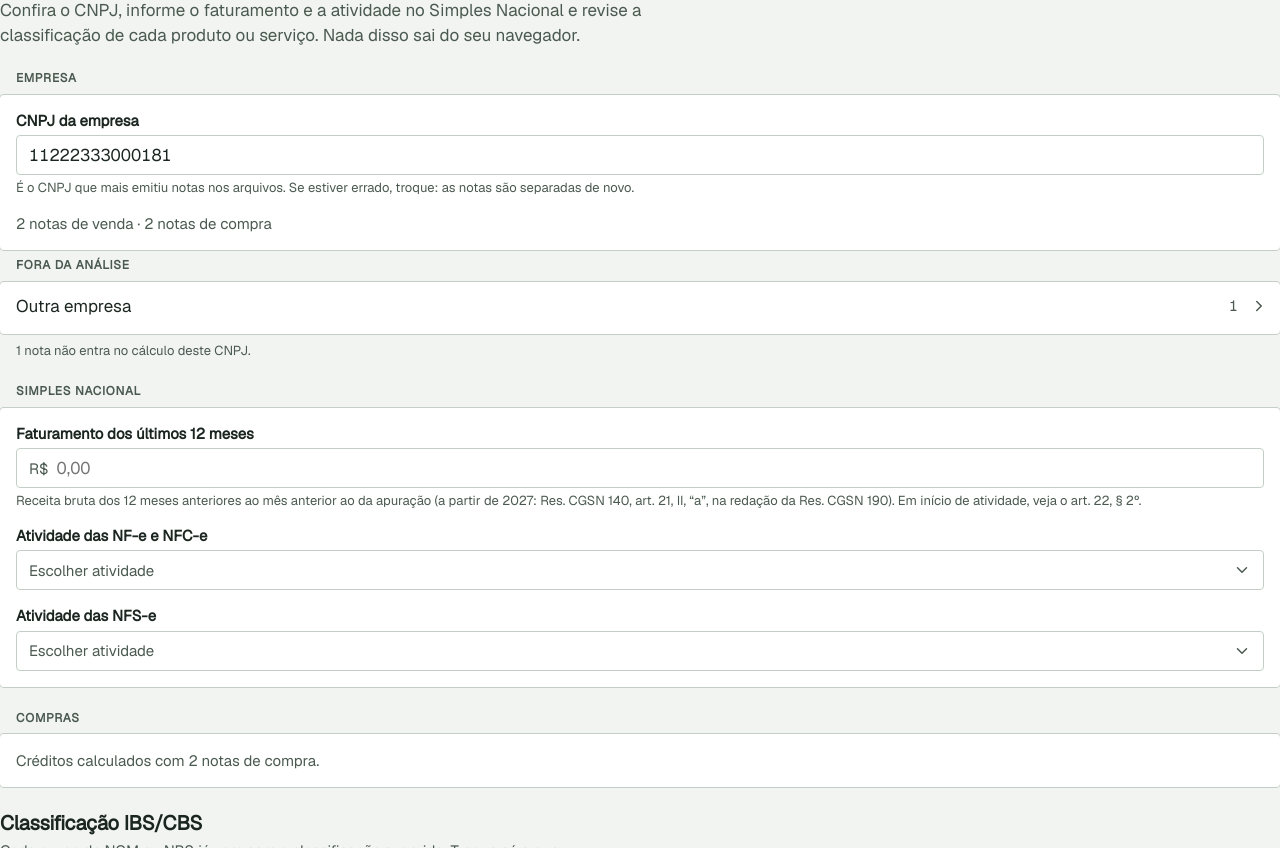
Test case: Confirmar — atividade do Simples › Calcular fica desabilitado enquanto algum tipo de nota presente não tem atividade (garante que o simular nunca exclui item por falta de atividade)
Click the button named "Atividade das NF-e e NFC-e". click: (92, 570)
box: [16,550,1264,590]
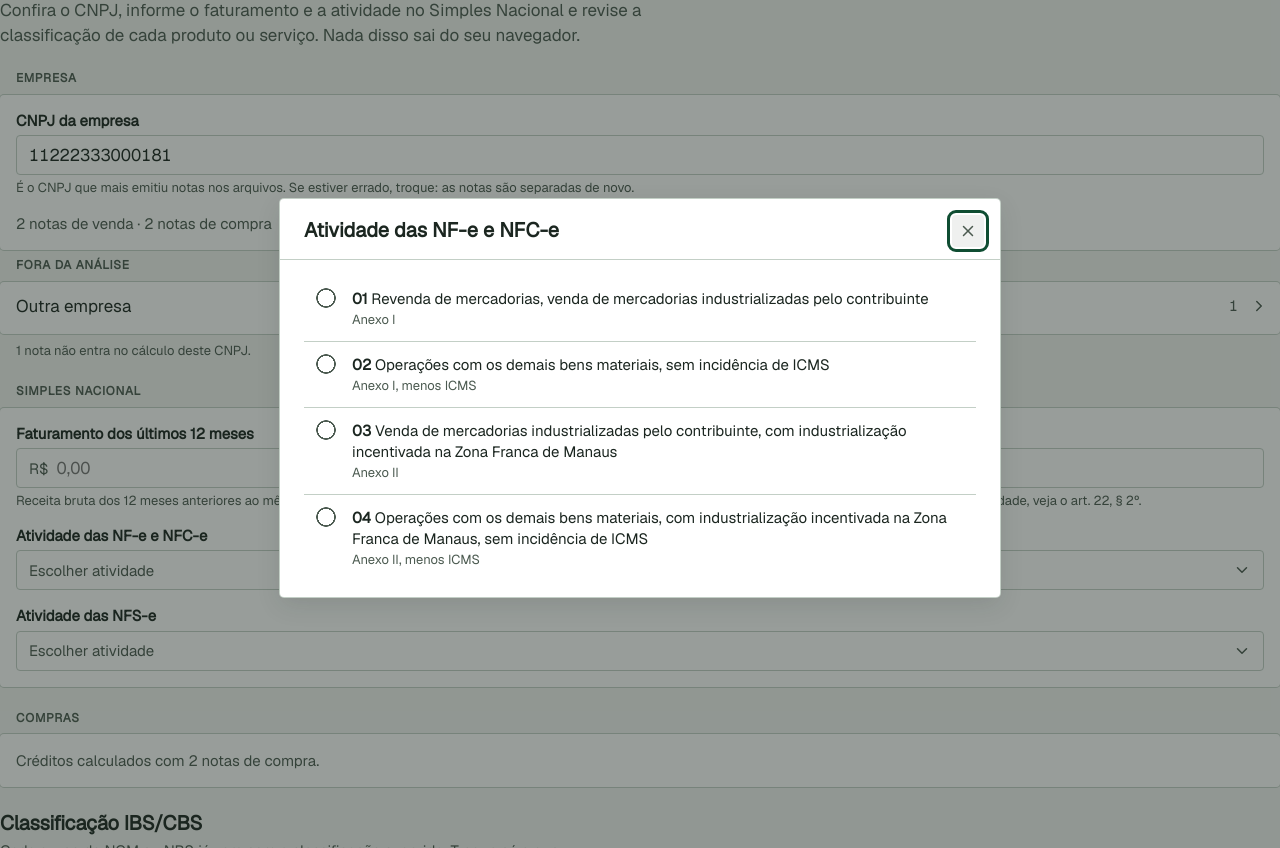
Click the radio button labelled "01 ". click: (326, 298)
box: [304,276,348,320]
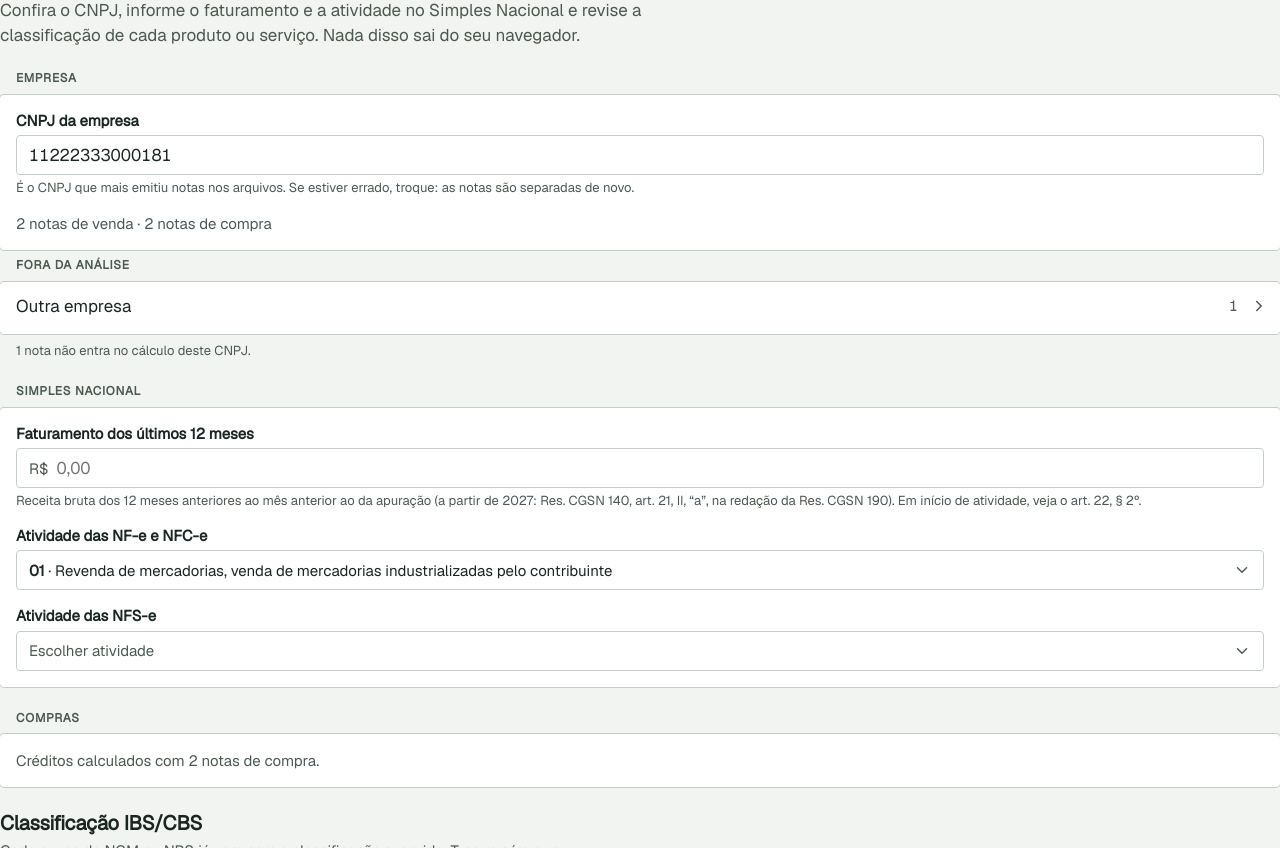
Type "1.000.000,00" into the field labelled "Faturamento dos últimos 12 meses". click: (654, 468)
box: [56,449,1251,487]
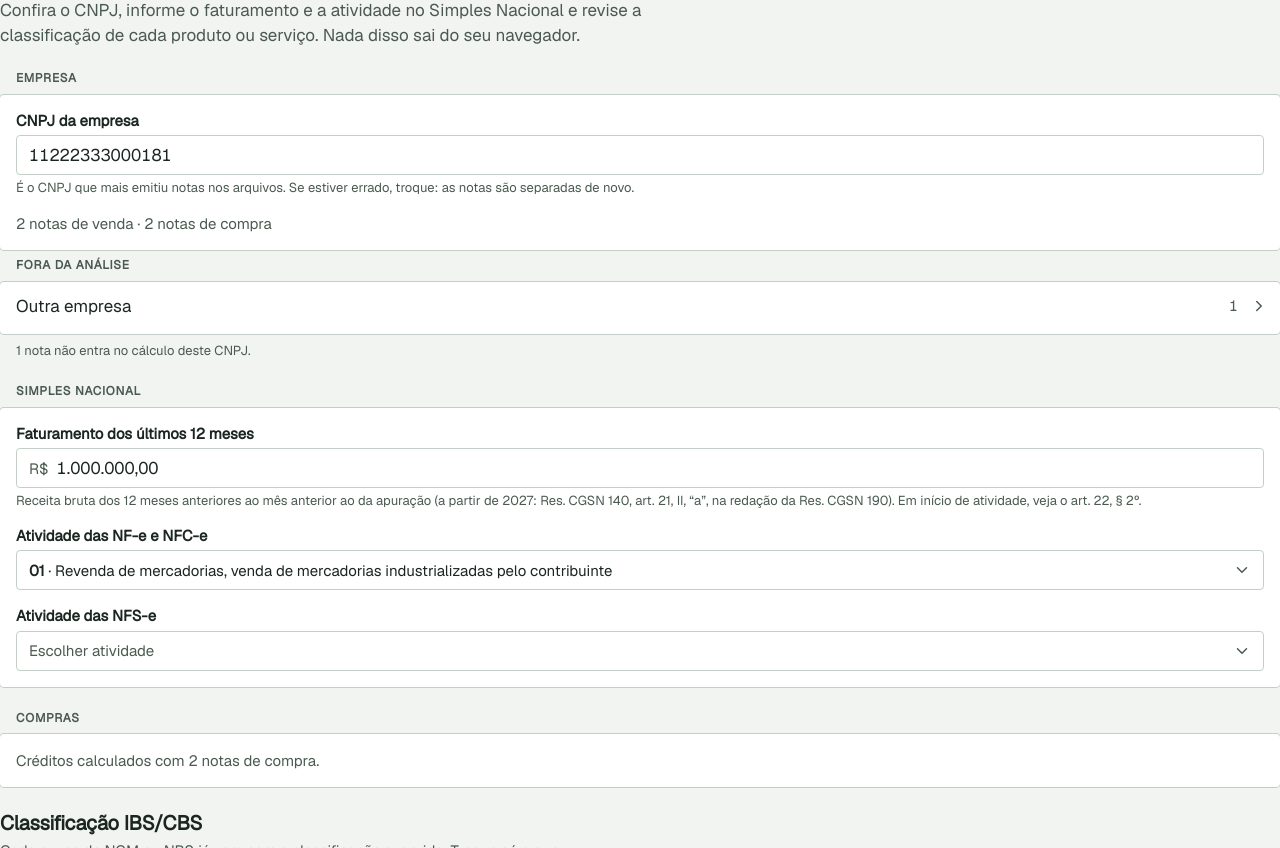
Click the button named "Atividade das NFS-e". click: (92, 651)
box: [16,631,1264,671]
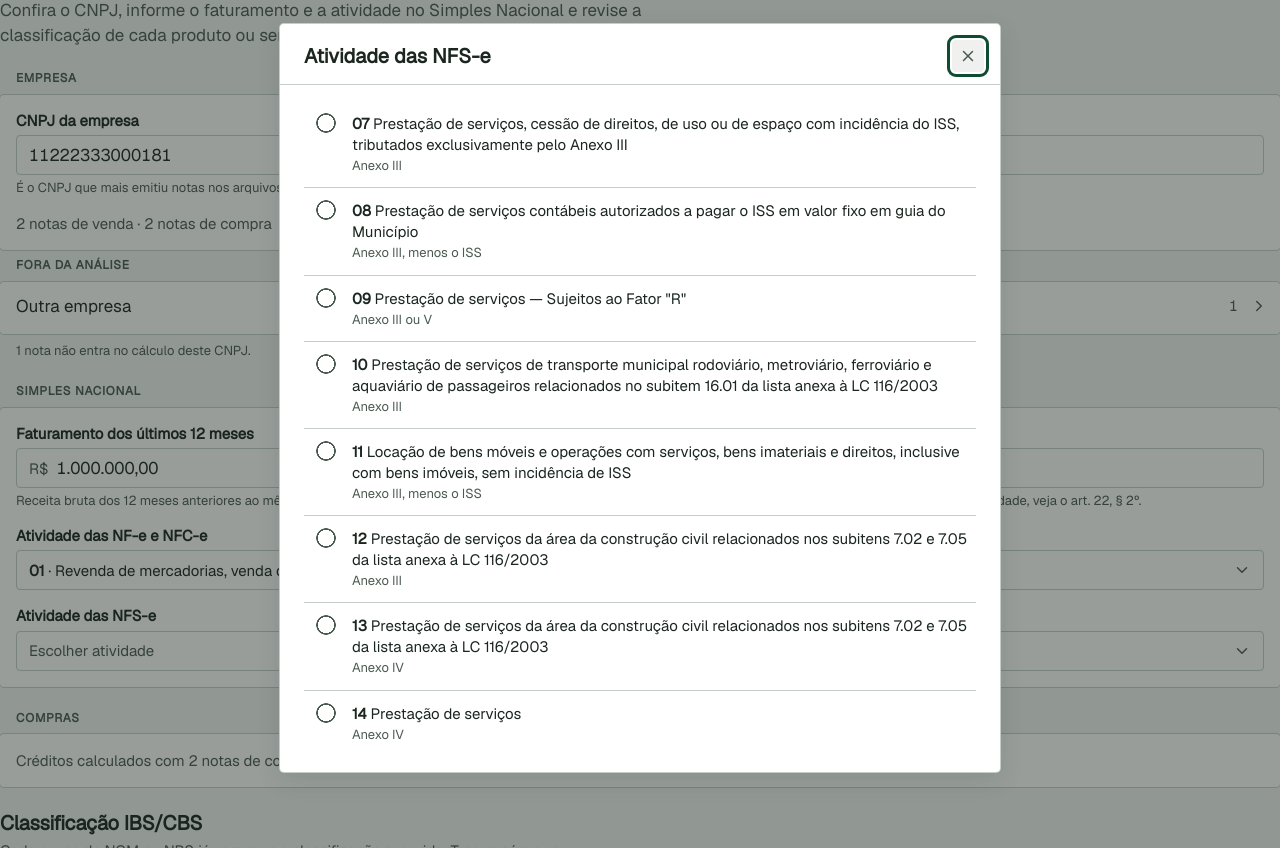
Click the 1st radio button. click: (326, 123)
box: [304,101,348,145]
(page scrolled)
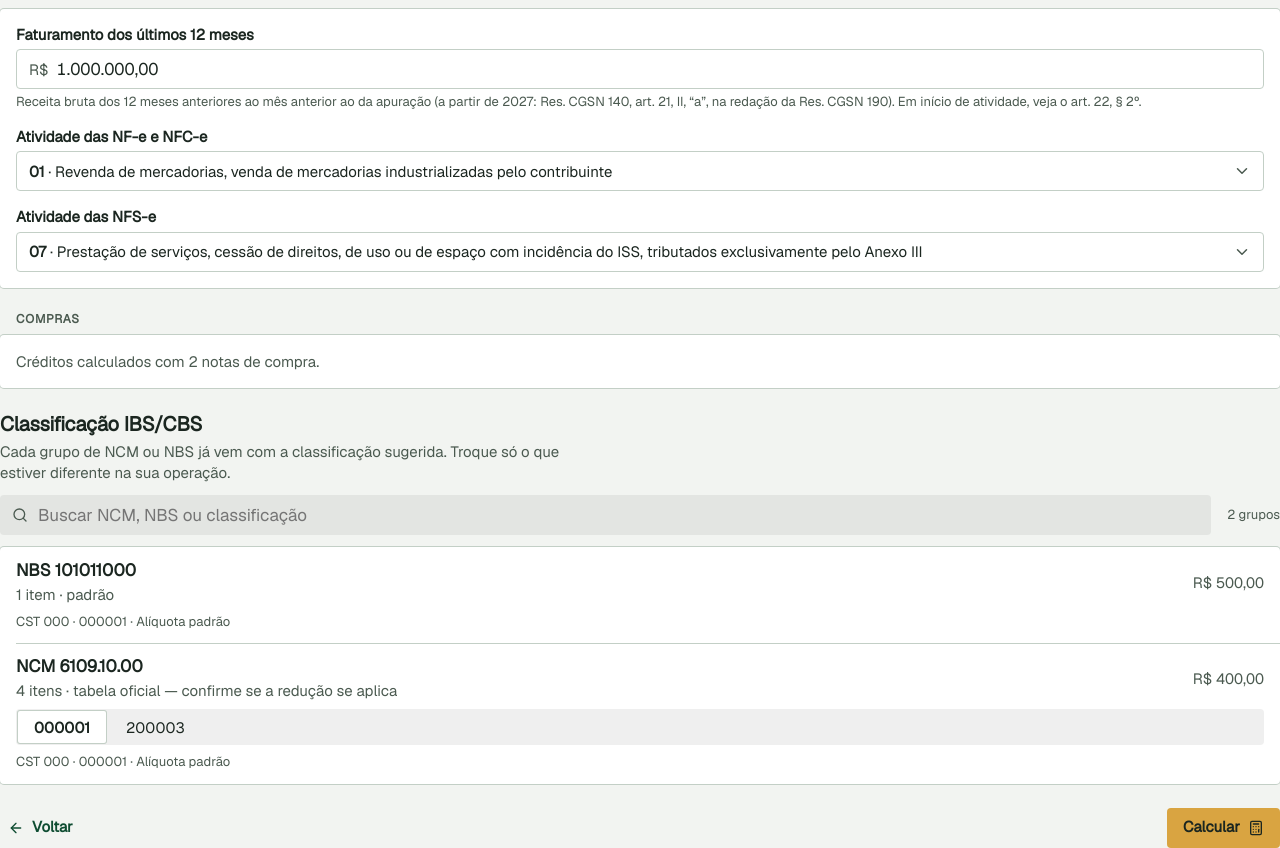
Expected: the button "Calcular" is enabled, [1167,808,1279,847]
